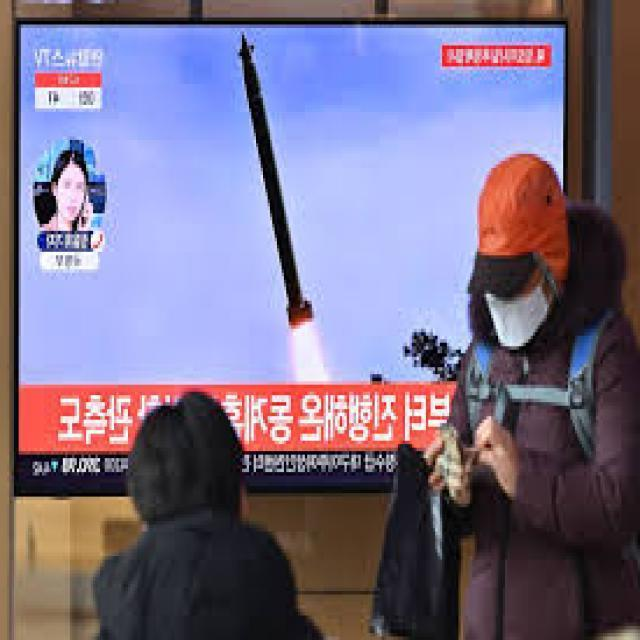Missile: (235, 25, 316, 373)
